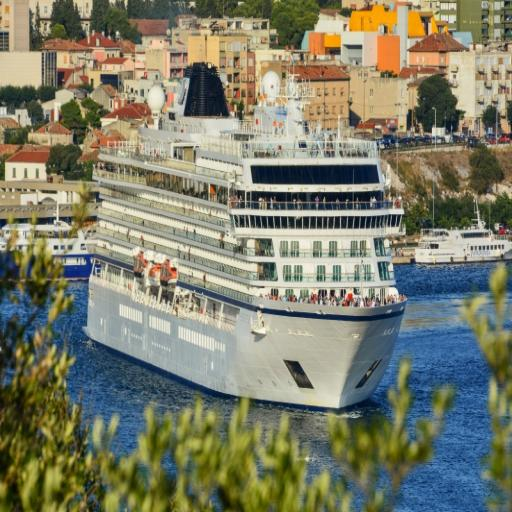cruises: (82, 59, 412, 418)
